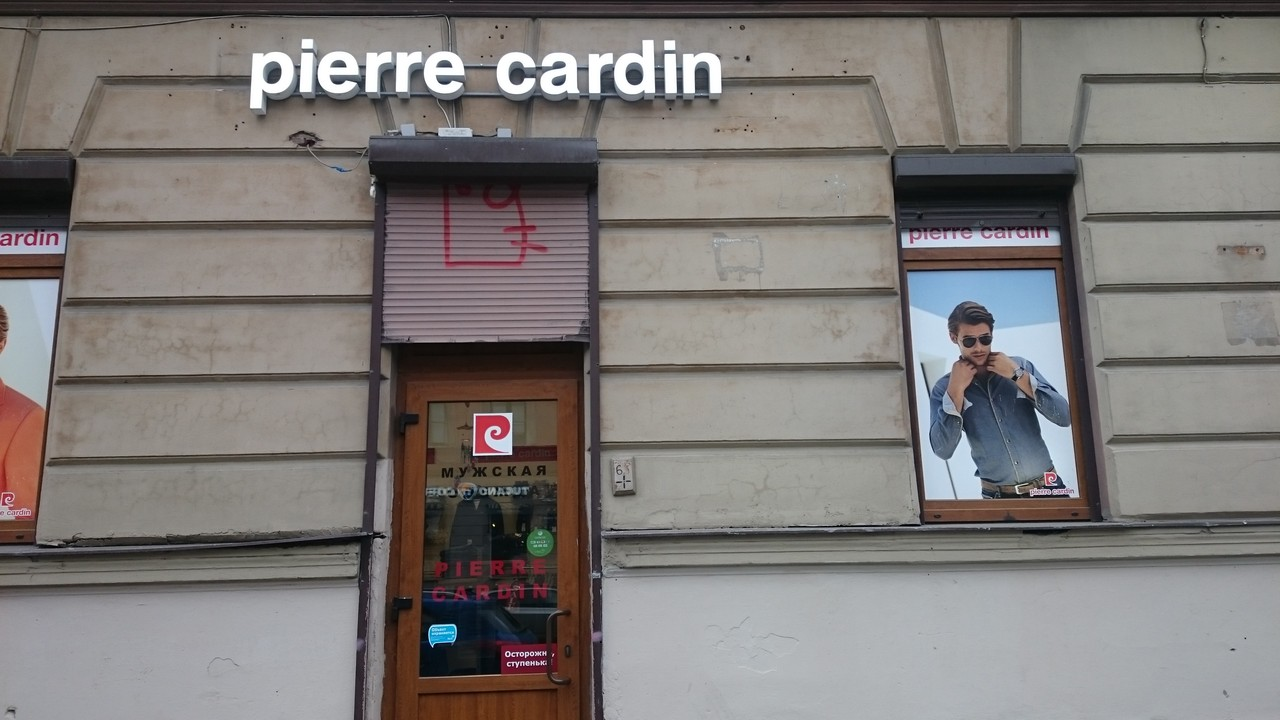door: (397, 378, 582, 720)
signboard: (247, 37, 723, 116)
window: (904, 256, 1097, 526)
